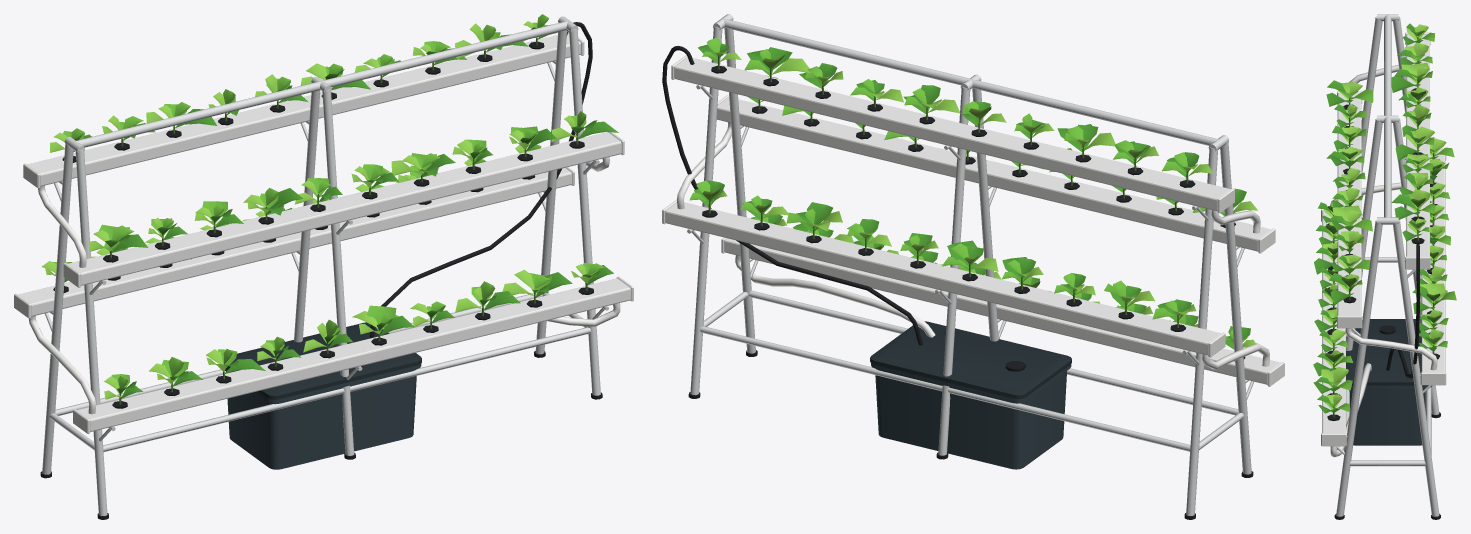
File: item-23.glb
The picture shows the model from 3 angles, left to right: view 1: azimuth 30°, elevation 25°; view 2: azimuth 150°, elevation 25°; view 3: azimuth 270°, elevation 25°; orthographic projection. The views are drawn at different scales.
Visible parts, largest first — view 1: channel.002, channel, channel.003, tank, channel.001, ridge, rail, lid, leg.001, leg, leg.002, leg.004 (+20 smaller); view 2: channel.003, channel.001, channel.002, tank, lid, channel, ridge, rail.001, leg.001, leg, leg.003, leg.005 (+16 smaller); view 3: tank, lid, leg.004, channel.002, leg.005, channel.003, channel.001, channel, ridge, leg.002, leg, lettuce.038 (+51 smaller).
Boxes of the visible parts, x1,y1,x2,y2 form: channel.002: (67, 132, 621, 285); channel: (77, 278, 630, 431); channel.003: (27, 33, 580, 186); tank: (225, 364, 421, 469); channel.001: (18, 168, 571, 316); ridge: (75, 21, 567, 147); rail: (103, 327, 591, 451); lid: (226, 322, 421, 399); leg.001: (42, 143, 73, 474); leg: (75, 149, 107, 515); leg.002: (322, 89, 354, 455); leg.004: (569, 29, 600, 395); channel.003: (674, 57, 1230, 211); channel.001: (665, 202, 1221, 355); channel.002: (716, 97, 1271, 251); tank: (871, 363, 1071, 469); lid: (870, 321, 1071, 399); channel: (724, 238, 1280, 384); ridge: (723, 18, 1218, 145); rail.001: (700, 326, 1190, 451); leg.001: (1186, 147, 1217, 515); leg: (1220, 141, 1251, 474); leg.003: (938, 87, 970, 455); leg.005: (690, 26, 722, 395); tank: (1349, 385, 1431, 445); lid: (1346, 319, 1426, 385); leg.004: (1336, 220, 1382, 516); channel.002: (1337, 93, 1361, 315); leg.005: (1393, 220, 1439, 516); channel.003: (1406, 34, 1429, 256); channel.001: (1421, 150, 1445, 372); channel: (1322, 211, 1345, 433); ridge: (1384, 14, 1391, 217); leg.002: (1346, 118, 1382, 350); leg: (1361, 16, 1382, 172); lettuce.038: (1391, 189, 1435, 219).
Size of the model in its own units: 2.28 by 1.38 by 0.5974.
